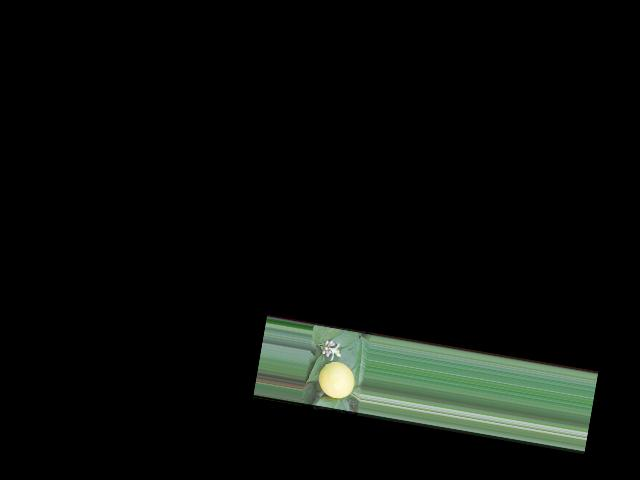lemon: (315, 358, 359, 403)
